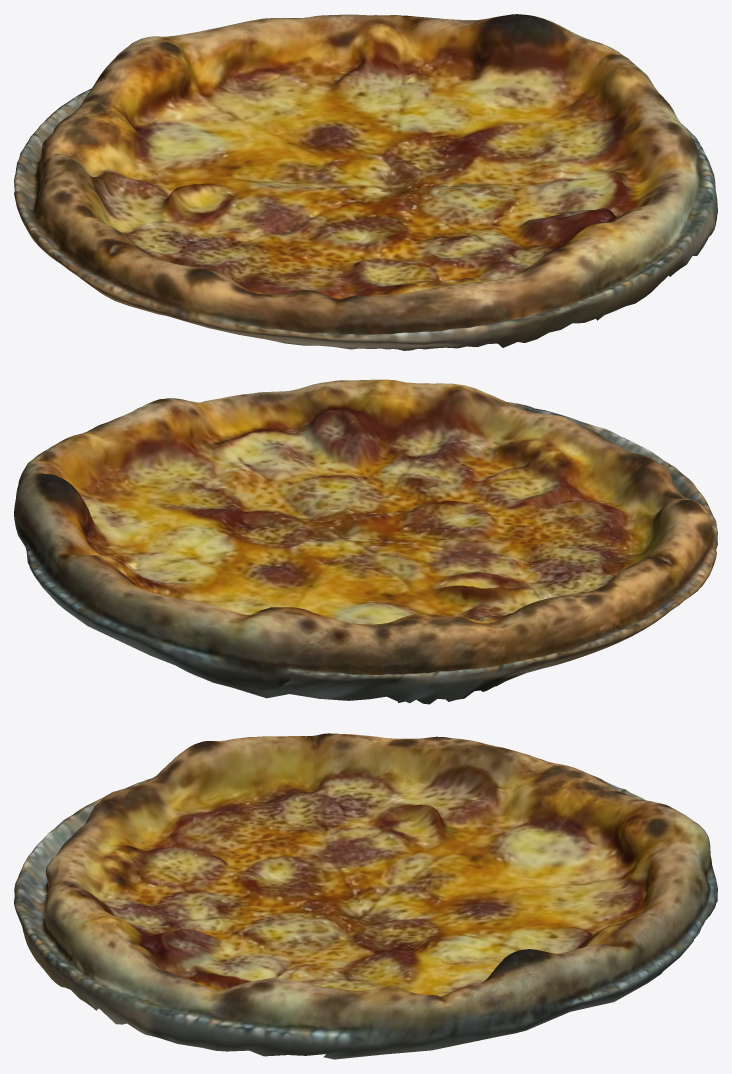
The model's file is salameti.glb.
3 views of the same model, one above another, from view 1: azimuth 30°, elevation 25°; view 2: azimuth 150°, elevation 25°; view 3: azimuth 270°, elevation 25° (orthographic).
Parts seen in each view (by area): view 1: ObjectCapture; view 2: ObjectCapture; view 3: ObjectCapture.
Boxes of the visible parts, <box> form: ObjectCapture: <box>14,14,717,350</box>; ObjectCapture: <box>14,379,717,704</box>; ObjectCapture: <box>14,733,717,1059</box>.
Bounding box in the file's own units: 0.6126 × 0.0836 × 0.6145.
1 material, 1 textured.
